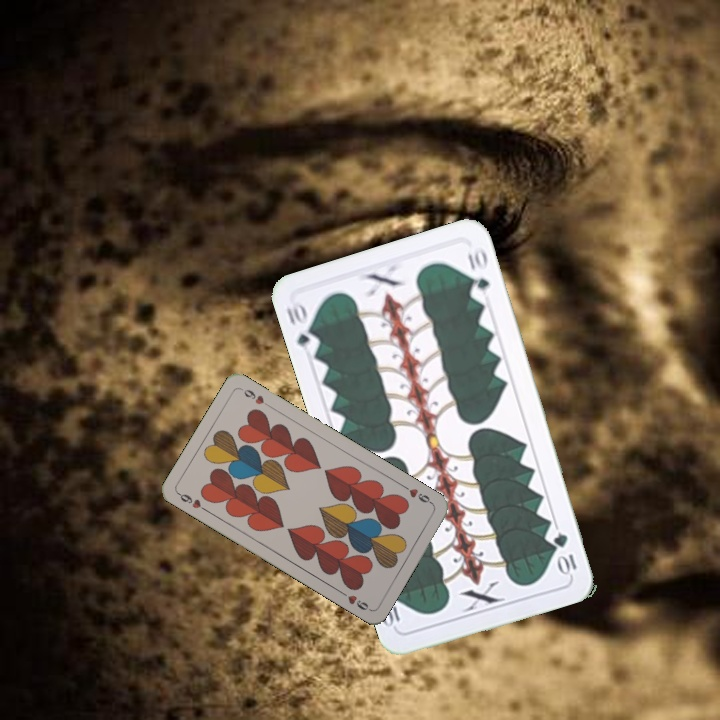G10: (282, 297, 322, 357), (549, 529, 579, 578)
H9: (174, 489, 211, 515), (399, 481, 436, 507)
